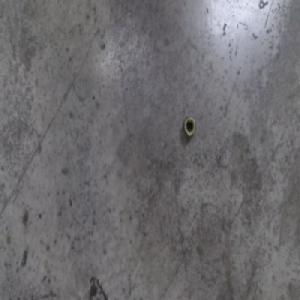Nut: (183, 116, 196, 139)
